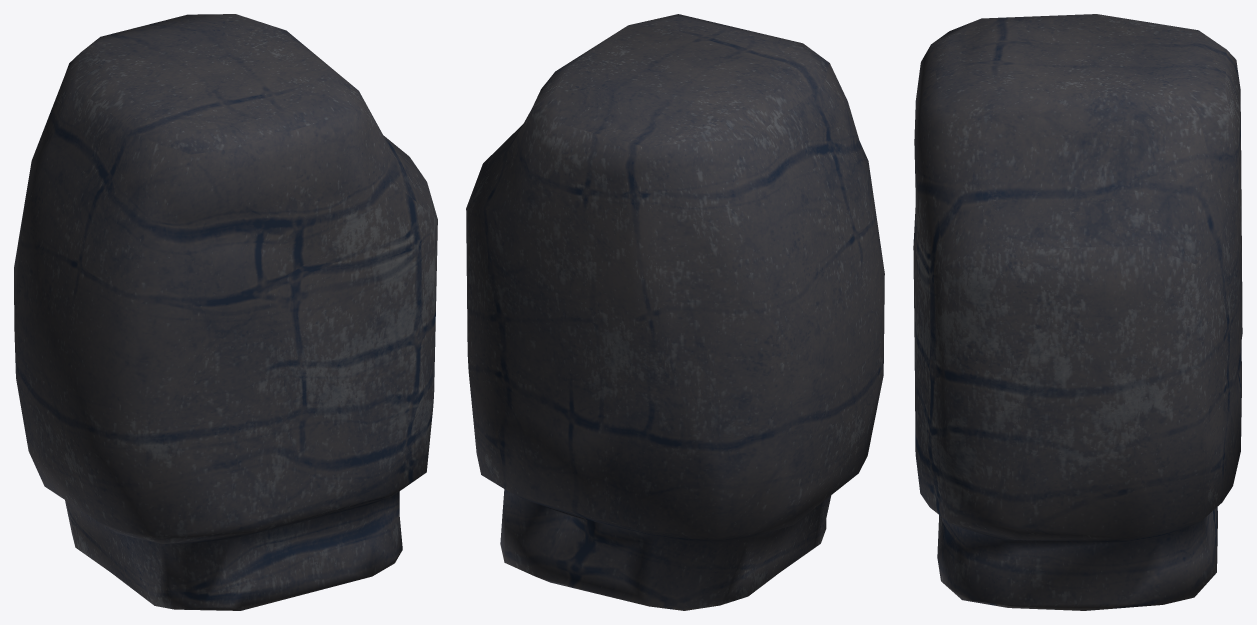
The model's file is obstacle_moyen3.obj.
The picture shows the model from 3 angles, left to right: view 1: azimuth 30°, elevation 25°; view 2: azimuth 150°, elevation 25°; view 3: azimuth 270°, elevation 25°; orthographic projection.
Parts seen in each view (by area): view 1: obstacle_moyen3.001; view 2: obstacle_moyen3.001; view 3: obstacle_moyen3.001.
Part boxes in pixels (left/top/right/bottom): obstacle_moyen3.001: left=14, top=14, right=437, bottom=610; obstacle_moyen3.001: left=466, top=14, right=884, bottom=610; obstacle_moyen3.001: left=913, top=14, right=1242, bottom=610.
Size of the model in its own units: 1322 by 1754 by 1073.
1 material, 1 textured.
